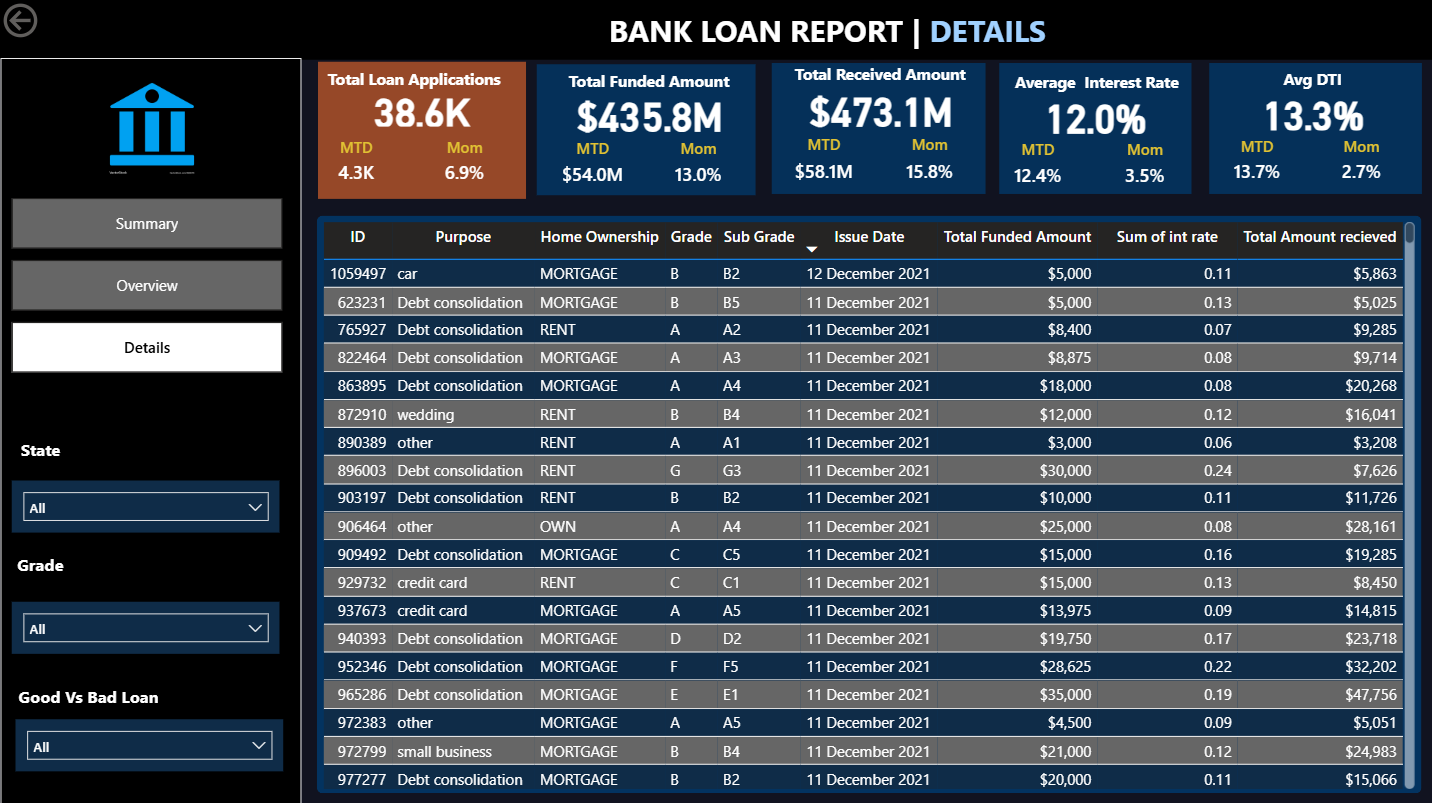

The dashboard page shown, as its layout file describes it:
{"tool":"powerbi","page":{"name":"Details","canvas":[1280,720],"ordinal":2},"visuals":[{"type":"textbox","box":[12.3,0,168.8,28.8],"z":0},{"type":"card","fields":{"Values":["Measures_Table.Total Amount recieved"]},"box":[689,76.8,194.9,43.5],"z":0,"group":"g4"},{"type":"card","fields":{"Values":["Measures_Table.Total_Loan_application"]},"box":[285,79.5,185.6,39.8],"z":0,"group":"g11"},{"type":"card","fields":{"Values":["Measures_Table.Avg DTI"]},"box":[1075.8,80.7,191.9,42],"z":0,"group":"g7"},{"type":"card","fields":{"Values":["Measures_Table.Total Funded Amount"]},"box":[483.3,81.9,194.9,42.5],"z":0,"group":"g3"},{"type":"card","fields":{"Values":["Measures_Table.Avg interest rate"]},"box":[879.6,83.7,196.2,42.5],"z":0,"group":"g8"},{"type":"shape","box":[0,0,1280.3,55],"z":1000},{"type":"textbox","box":[701.3,52.9,168.8,29.5],"z":1000,"group":"g4"},{"type":"textbox","box":[284,57.6,173.4,28.8],"z":1000,"group":"g11"},{"type":"textbox","box":[1088,57.6,166.3,28.5],"z":1000,"group":"g7"},{"type":"textbox","box":[495.6,58.6,168.8,28.8],"z":1000,"group":"g3"},{"type":"textbox","box":[892,60.4,170,28.8],"z":1000,"group":"g8"},{"type":"shape","box":[2.7,53.1,267.6,666.9],"z":2000},{"type":"card","title":"MTD","fields":{"Values":["Measures_Table.MTD recieved amount"]},"box":[701.3,120.3,68.6,52],"z":2000,"group":"g4"},{"type":"card","title":"MTD","fields":{"Values":["Measures_Table.MTD DTI"]},"box":[1088,122.7,67.6,50.2],"z":2000,"group":"g7"},{"type":"card","title":"MTD","fields":{"Values":["Measures_Table.MTD Loan Applications"]},"box":[284,123.5,70.5,50.8],"z":2000,"group":"g11"},{"type":"card","title":"MTD","fields":{"Values":["Measures_Table.MTD funded amount"]},"box":[495.6,124.5,68.6,50.8],"z":2000,"group":"g3"},{"type":"card","title":"MTD","fields":{"Values":["Measures_Table.MTD Avg amount"]},"box":[892,126.3,69.1,50.8],"z":2000,"group":"g8"},{"type":"textbox","box":[511.8,5.5,452.8,50.8],"z":3000},{"type":"card","title":"Mom","fields":{"Values":["Measures_Table.MOM Received amount"]},"box":[789.2,120.3,81,52],"z":3000,"group":"g4"},{"type":"card","title":"Mom","fields":{"Values":["Measures_Table.MOM Avg DTI"]},"box":[1174.5,122.7,79.8,50.2],"z":3000,"group":"g7"},{"type":"card","title":"Mom","fields":{"Values":["Measures_Table.MOM_loan_application"]},"box":[374.2,123.5,83.2,50.8],"z":3000,"group":"g11"},{"type":"card","title":"Mom","fields":{"Values":["Measures_Table.MOM funded amount"]},"box":[583.5,124.5,81,50.8],"z":3000,"group":"g3"},{"type":"card","title":"Mom","fields":{"Values":["Measures_Table.MOM Avg amount"]},"box":[980.5,126.3,81.5,50.8],"z":3000,"group":"g8"},{"type":"shape","box":[285.4,56.3,185.2,122.1],"z":4000},{"type":"shape","box":[480.3,59,194.9,116.6],"z":5000},{"type":"shape","box":[688.9,57.6,190.7,116.6],"z":6000},{"type":"group","id":"g1","title":"Group 1","box":[483.3,58.6,194.9,116.6],"z":7000},{"type":"group","id":"g2","title":"Group 2","box":[689,52.9,194.9,119.4],"z":8000},{"type":"group","id":"g3","title":"Group 2","box":[483.3,58.6,194.9,116.6],"z":8001,"group":"g1"},{"type":"group","id":"g4","title":"Group 3","box":[689,52.9,194.9,119.4],"z":8003,"group":"g2"},{"type":"group","id":"g5","title":"Group 3","box":[1075.8,57.6,191.9,115.3],"z":8003,"group":"g9"},{"type":"group","id":"g6","title":"Group 3","box":[879.6,60.4,196.2,116.6],"z":8003,"group":"g10"},{"type":"group","id":"g7","title":"Group 4","box":[1075.8,57.6,191.9,115.3],"z":8005,"group":"g5"},{"type":"group","id":"g8","title":"Group 4","box":[879.6,60.4,196.2,116.6],"z":8005,"group":"g6"},{"type":"shape","box":[1078.6,57.6,189.4,116.6],"z":9000},{"type":"group","id":"g9","title":"Group 2","box":[1075.8,57.6,192.1,115.3],"z":10000},{"type":"shape","box":[891.9,57.6,171.5,116.6],"z":11000},{"type":"group","id":"g10","title":"Group 2","box":[879.6,60.4,196.2,116.6],"z":12000},{"type":"group","id":"g11","title":"Group 1","box":[284,57.6,186.6,116.6],"z":13000},{"type":"actionButton","box":[0,0,100,40],"z":14000},{"type":"slicer","fields":{"Values":["Bank_loan_data.address_state"]},"box":[12.3,429.5,238.8,46.7],"z":15000},{"type":"textbox","box":[15.1,387,57.6,41.2],"z":16000},{"type":"slicer","fields":{"Values":["Bank_loan_data.grade"]},"box":[12.3,537.9,238.8,46.7],"z":17000},{"type":"textbox","box":[12.3,489.9,102.9,35.7],"z":18000},{"type":"slicer","fields":{"Values":["Bank_loan_data.Good Vs Bad Loan"]},"box":[15.1,642.2,238.8,46.7],"z":19000},{"type":"textbox","box":[13.7,606.5,145.5,35.7],"z":20000},{"type":"shape","box":[284,193.5,983.9,514.6],"z":21000},{"type":"tableEx","fields":{"Values":["Bank_loan_data.id","Bank_loan_data.purpose","Bank_loan_data.home_ownership","Bank_loan_data.grade","Bank_loan_data.sub_grade","Bank_loan_data.issue_date","Measures_Table.Total Funded Amount","Sum(Bank_loan_data.int_rate)","Measures_Table.Total Amount recieved"]},"box":[284,194.9,982.5,514.6],"z":22000},{"type":"pageNavigator","box":[12.3,178.4,241.5,155.1],"z":23000},{"type":"image","box":[86.4,72.7,100.2,86.4],"z":24000}]}

Visuals, with their boxes in screenshot pixels (x1, y1, x2, y2), scaled from the page's 1280x720 canvas onto the 1432x803 screenshot:
textbox: 14,0,203,32
card - Measures_Table.Total Amount recieved: 771,86,989,134
card - Measures_Table.Total_Loan_application: 319,89,526,133
card - Measures_Table.Avg DTI: 1204,90,1418,137
card - Measures_Table.Total Funded Amount: 541,91,759,139
card - Measures_Table.Avg interest rate: 984,93,1204,141
shape: 0,0,1431,61
textbox: 785,59,973,92
textbox: 318,64,512,96
textbox: 1217,64,1403,96
textbox: 554,65,743,97
textbox: 998,67,1188,99
shape: 3,59,302,802
"MTD" card: 785,134,861,192
"MTD" card: 1217,137,1293,193
"MTD" card: 318,138,397,194
"MTD" card: 554,139,631,196
"MTD" card: 998,141,1075,198
textbox: 573,6,1079,63
"Mom" card: 883,134,974,192
"Mom" card: 1314,137,1403,193
"Mom" card: 419,138,512,194
"Mom" card: 653,139,743,196
"Mom" card: 1097,141,1188,198
shape: 319,63,526,199
shape: 537,66,755,196
shape: 771,64,984,194
"Group 1" group: 541,65,759,195
"Group 2" group: 771,59,989,192
"Group 2" group: 541,65,759,195
"Group 3" group: 771,59,989,192
"Group 3" group: 1204,64,1418,193
"Group 3" group: 984,67,1204,197
"Group 4" group: 1204,64,1418,193
"Group 4" group: 984,67,1204,197
shape: 1207,64,1419,194
"Group 2" group: 1204,64,1418,193
shape: 998,64,1190,194
"Group 2" group: 984,67,1204,197
"Group 1" group: 318,64,526,194
actionButton: 0,0,112,45
slicer - Bank_loan_data.address_state: 14,479,281,531
textbox: 17,432,81,478
slicer - Bank_loan_data.grade: 14,600,281,652
textbox: 14,546,129,586
slicer - Bank_loan_data.Good Vs Bad Loan: 17,716,284,768
textbox: 15,676,178,716
shape: 318,216,1418,790
tableEx - Bank_loan_data.id x Bank_loan_data.purpose: 318,217,1417,791
pageNavigator: 14,199,284,372
image: 97,81,209,177
